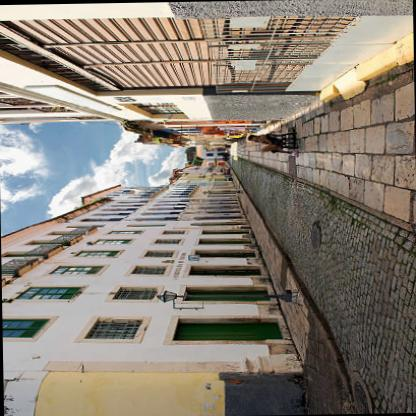manholes: (346, 366, 382, 414), (304, 214, 335, 254)
